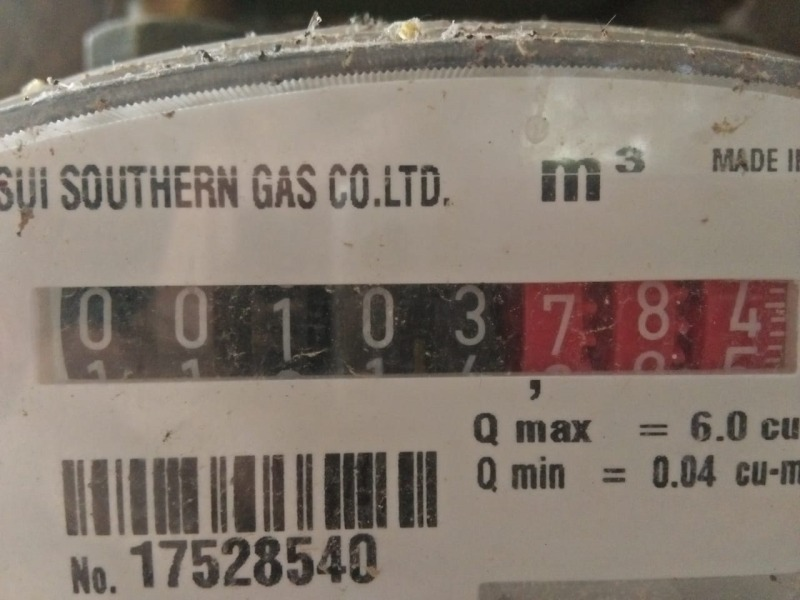ssgc: (29, 277, 794, 385)
